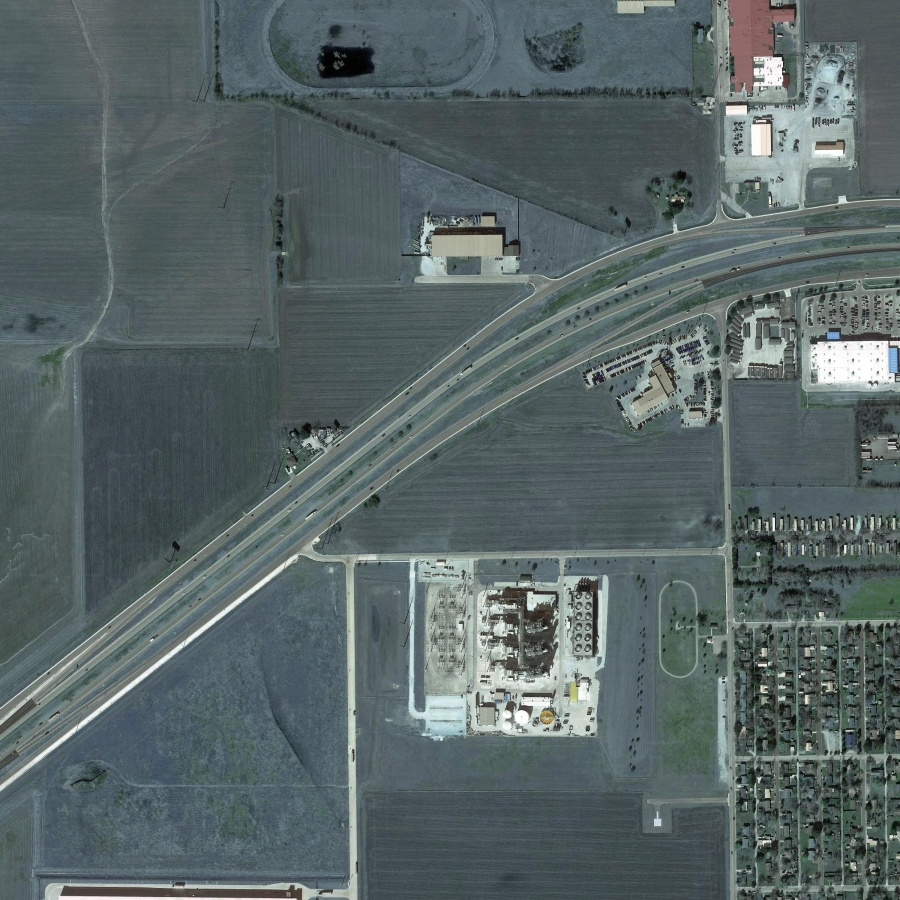PowerPlant: (411, 554, 605, 743)
